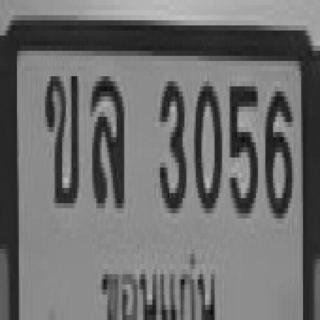A02: (43, 71, 77, 203)
A36: (89, 71, 122, 203)
N00: (192, 76, 220, 208)
N03: (157, 76, 185, 208)
N05: (228, 81, 256, 213)
N06: (264, 86, 290, 213)
P18: (96, 249, 220, 320)
